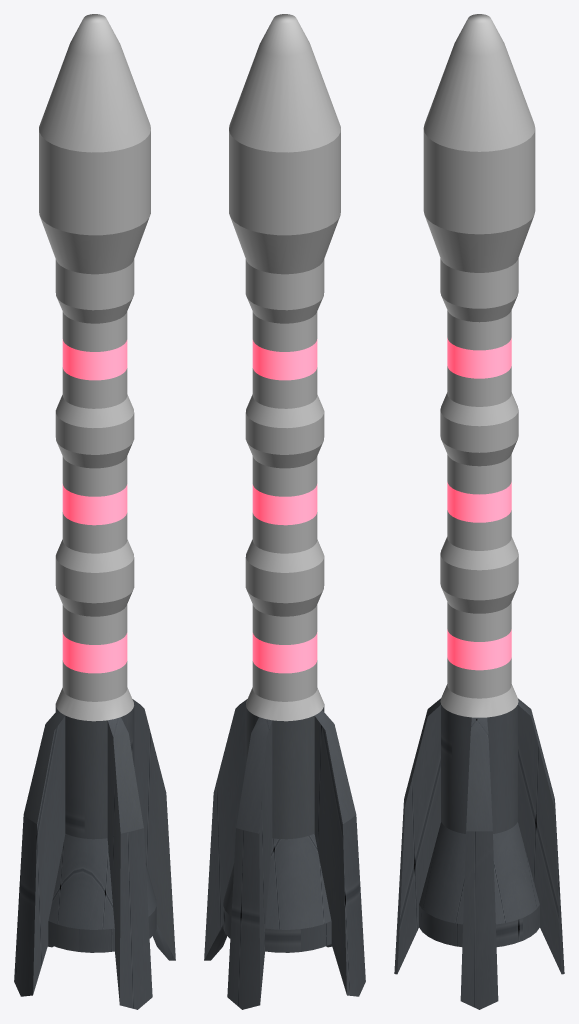
Rendered from MISSILE.fbx.
The picture shows the model from 3 angles, left to right: view 1: azimuth 30°, elevation 25°; view 2: azimuth 150°, elevation 25°; view 3: azimuth 270°, elevation 25°; orthographic projection.
Visible parts, largest first — view 1: Missile; view 2: Missile; view 3: Missile.
Part boxes in pixels (x1=…): Missile: x1=14, y1=14, x2=175, y2=1009; Missile: x1=204, y1=14, x2=365, y2=1009; Missile: x1=394, y1=14, x2=564, y2=1009.
Size of the model in its own units: 58.2 by 360 by 58.2.
